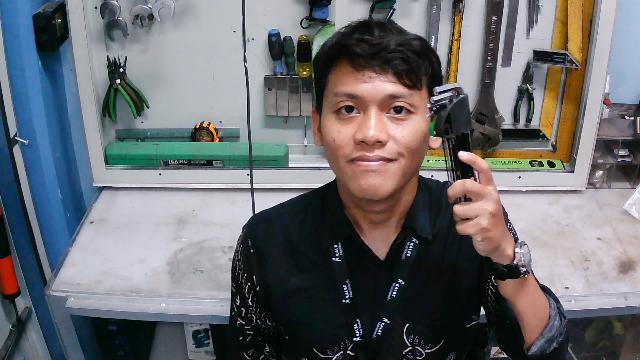kunci_l: (421, 81, 485, 225)
